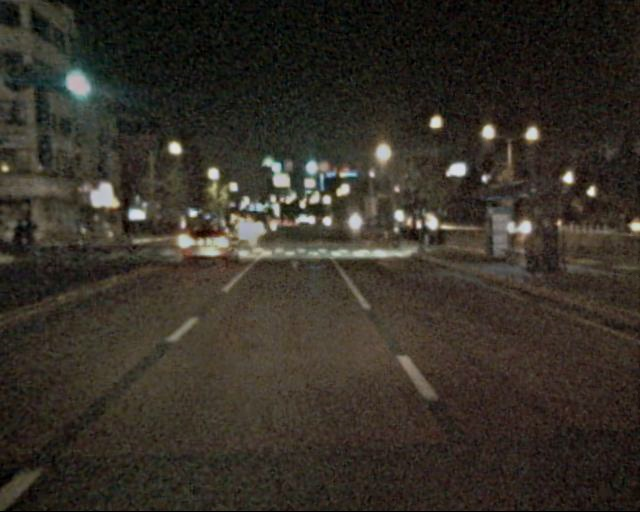person: (543, 217, 569, 280), (526, 220, 548, 280)
